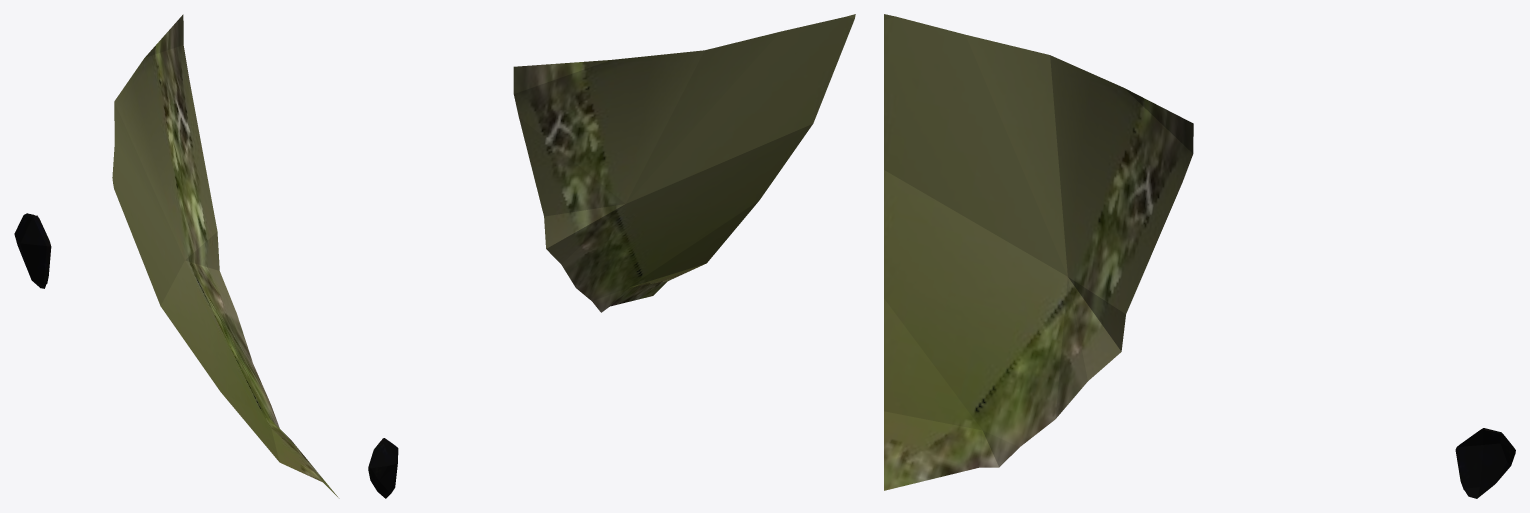
The picture shows the model from 3 angles, left to right: view 1: azimuth 30°, elevation 25°; view 2: azimuth 150°, elevation 25°; view 3: azimuth 270°, elevation 25°; orthographic projection. The views are drawn at different scales.
Size of the model in its own units: 1.17 by 1.87 by 2.86.
Materials: 1 (1 with a texture image).
